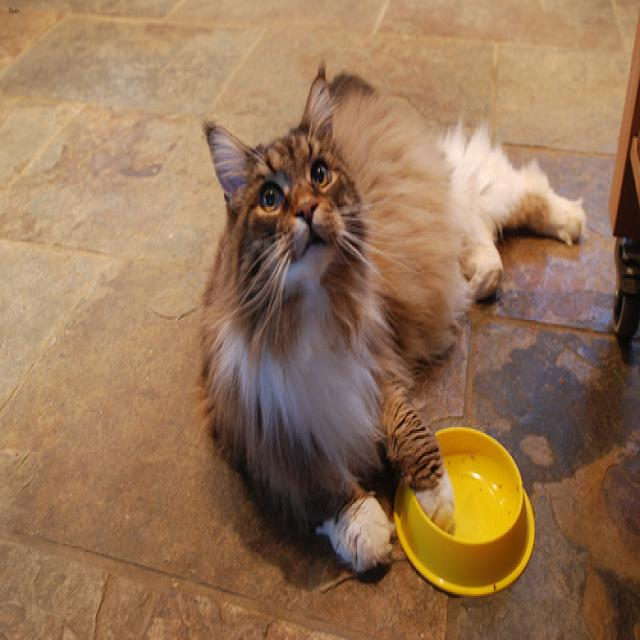cat: (205, 71, 351, 282)
